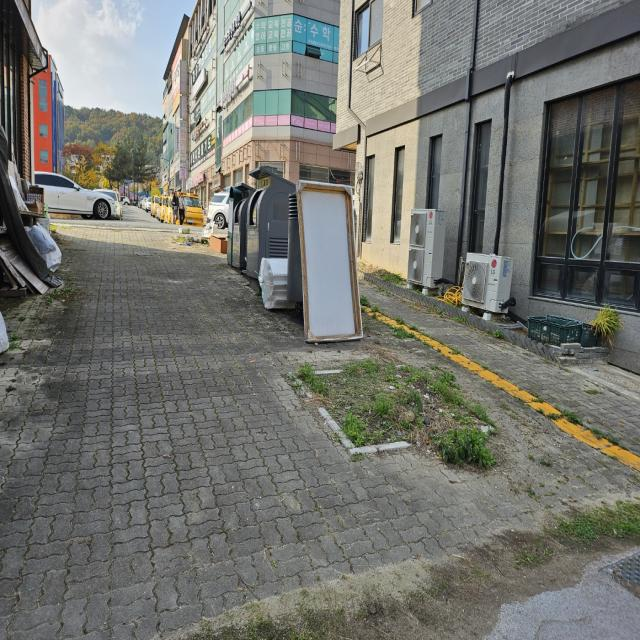CleanNet: (244, 164, 297, 280), (222, 185, 266, 276)
Large Waste Items: (292, 170, 372, 348)
